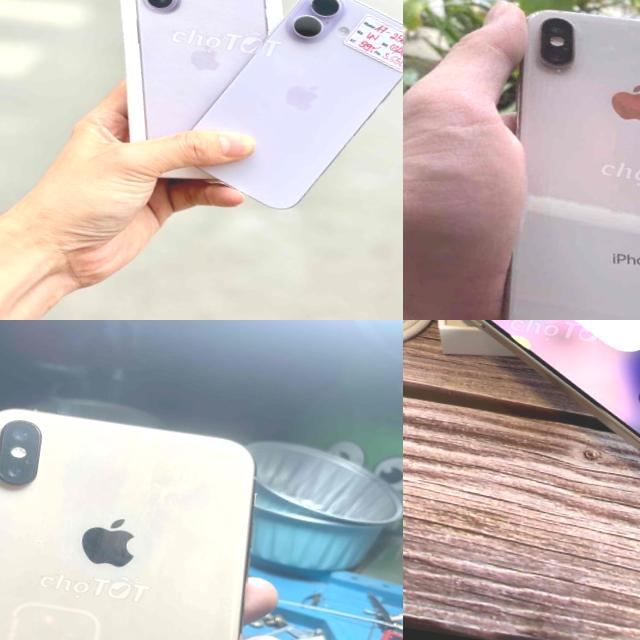gen_15: (403, 320, 640, 494)
gen_17: (179, 0, 403, 252)
gen_x_xs: (0, 393, 294, 640), (429, 0, 640, 320)
